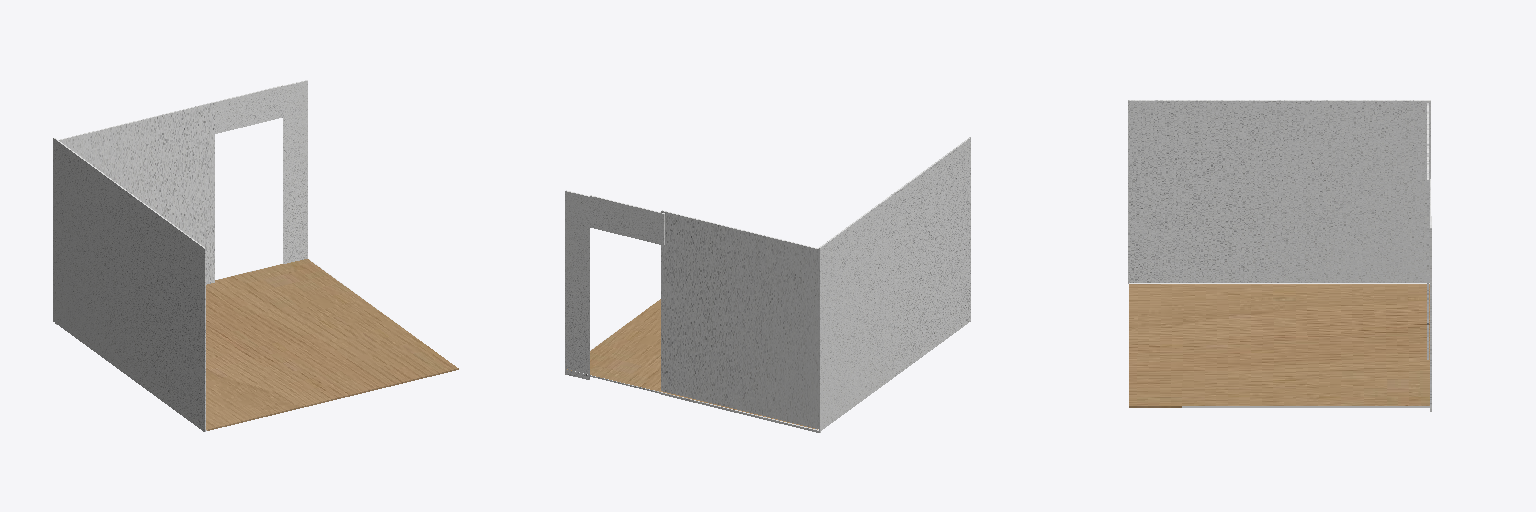
3 views of the same model, side by side, from view 1: azimuth 30°, elevation 25°; view 2: azimuth 150°, elevation 25°; view 3: azimuth 270°, elevation 25° (orthographic).
Visible parts, largest first — view 1: podea; view 2: podea; view 3: podea.
Boxes of the visible parts, <box> form: podea: <box>53,80,458,431</box>; podea: <box>565,137,970,432</box>; podea: <box>1128,100,1431,411</box>.
Size of the model in its own units: 20.39 by 14.39 by 21.12.
Materials: 1 (1 with a texture image).